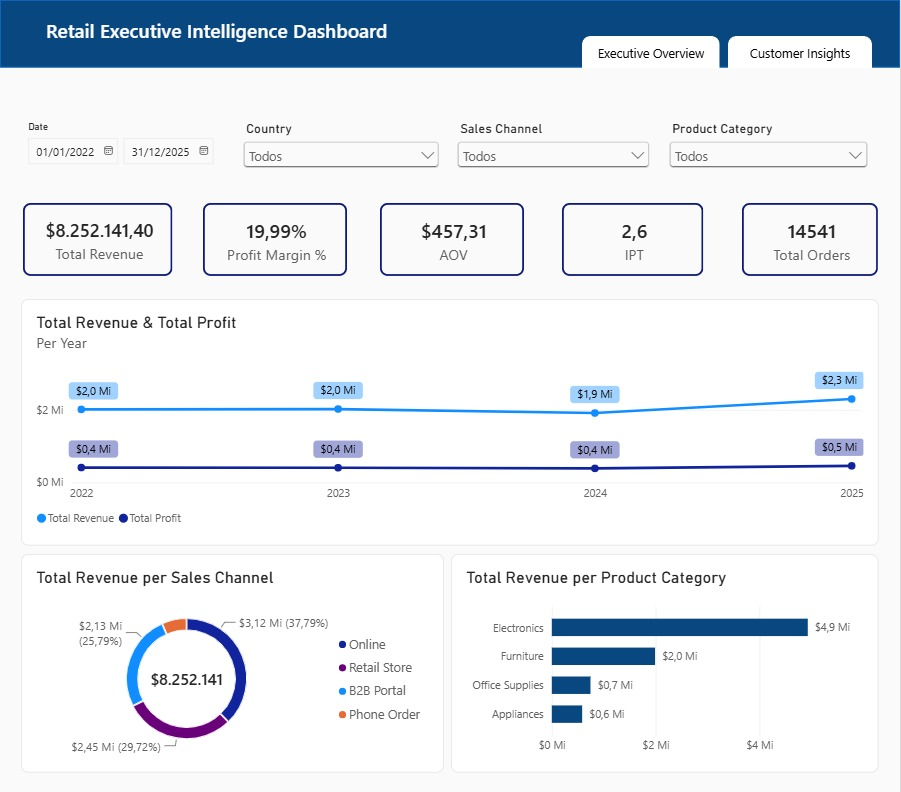

What the dashboard file says about the page in this screenshot:
{"tool":"powerbi","page":{"name":"Executive Overview","canvas":[1000,900],"ordinal":0},"visuals":[{"type":"shape","box":[0,0,1000,75],"z":0},{"type":"cardVisual","fields":{"Data":["_Measures.Total Revenue"]},"box":[25.2,225,166.8,81],"z":1000},{"type":"cardVisual","fields":{"Data":["_Measures.Profit Margin %"]},"box":[225.5,225,160.3,81],"z":2000},{"type":"cardVisual","fields":{"Data":["_Measures.AOV"]},"box":[422.6,225,160.3,81],"z":3000},{"type":"cardVisual","fields":{"Data":["_Measures.IPT"]},"box":[624,225,157,81],"z":4000},{"type":"cardVisual","fields":{"Data":["_Measures.Total Orders"]},"box":[824.4,225,151.6,81],"z":5000},{"type":"lineChart","title":"Total Revenue & Total Profit","fields":{"Category":["d_Calendar.Year"],"Y":["_Measures.Total Revenue","_Measures.Total Profit"]},"box":[23,332,953,274],"z":6000},{"type":"clusteredBarChart","title":"Total Revenue per Product Category","fields":{"Category":["retail_sales.Product_Category"],"Y":["_Measures.Total Revenue"]},"box":[500.6,615,475.4,243],"z":7000},{"type":"donutChart","title":"Total Revenue per Sales Channel","fields":{"Category":["retail_sales.Sales_Channel"],"Y":["_Measures.Total Revenue"]},"box":[23,616,470,243],"z":8000},{"type":"slicer","fields":{"Values":["d_Calendar.Date"]},"box":[23,134,235,57],"z":9000},{"type":"slicer","fields":{"Values":["retail_sales.Country"]},"box":[265.6,134,227.4,52],"z":10000},{"type":"slicer","fields":{"Values":["retail_sales.Sales_Channel"]},"box":[503.8,134,223.1,52],"z":11000},{"type":"slicer","fields":{"Values":["retail_sales.Product_Category"]},"box":[738.8,134,229.6,52],"z":12000},{"type":"textbox","box":[51,19,390,41],"z":13000},{"type":"actionButton","box":[647,40,153,36],"z":14000},{"type":"actionButton","box":[809,40,160,36],"z":15000}]}

Visuals, with their boxes in screenshot pixels (x1, y1, x2, y2), scaled from the page's 1000x900 canvas onto the 901x792 screenshot:
shape: bbox(0, 0, 900, 66)
cardVisual - _Measures.Total Revenue: bbox(23, 198, 173, 269)
cardVisual - _Measures.Profit Margin %: bbox(203, 198, 348, 269)
cardVisual - _Measures.AOV: bbox(381, 198, 525, 269)
cardVisual - _Measures.IPT: bbox(562, 198, 704, 269)
cardVisual - _Measures.Total Orders: bbox(743, 198, 879, 269)
"Total Revenue & Total Profit" lineChart: bbox(21, 292, 879, 533)
"Total Revenue per Product Category" clusteredBarChart: bbox(451, 541, 879, 755)
"Total Revenue per Sales Channel" donutChart: bbox(21, 542, 444, 756)
slicer - d_Calendar.Date: bbox(21, 118, 232, 168)
slicer - retail_sales.Country: bbox(239, 118, 444, 164)
slicer - retail_sales.Sales_Channel: bbox(454, 118, 655, 164)
slicer - retail_sales.Product_Category: bbox(666, 118, 873, 164)
textbox: bbox(46, 17, 397, 53)
actionButton: bbox(583, 35, 721, 67)
actionButton: bbox(729, 35, 873, 67)
